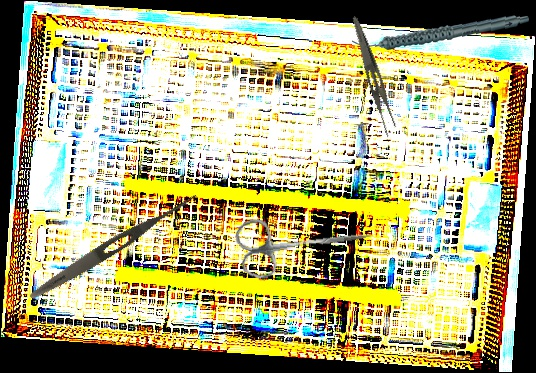Dressing Forceps: (26, 186, 202, 305), (338, 15, 405, 139)
Handpiece: (351, 2, 530, 62)
Iris Scissors: (233, 202, 377, 283)
